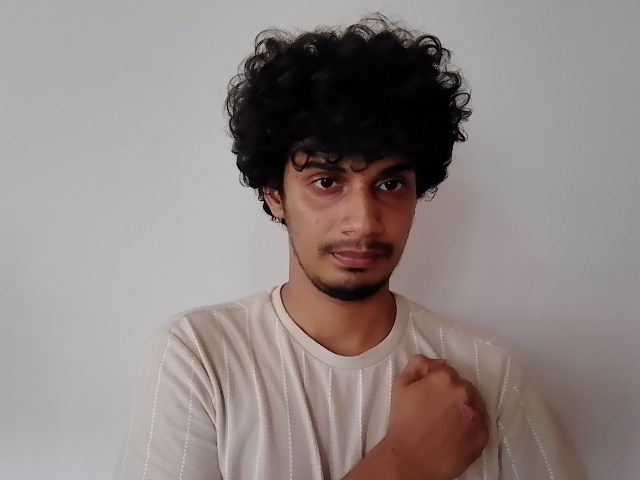sorry: (347, 306, 573, 480)
